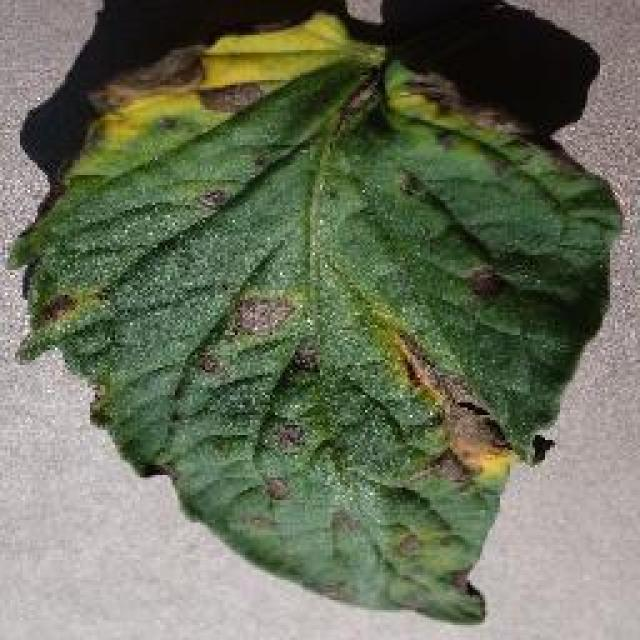Tomato___Early_blight: (3, 9, 628, 626)
